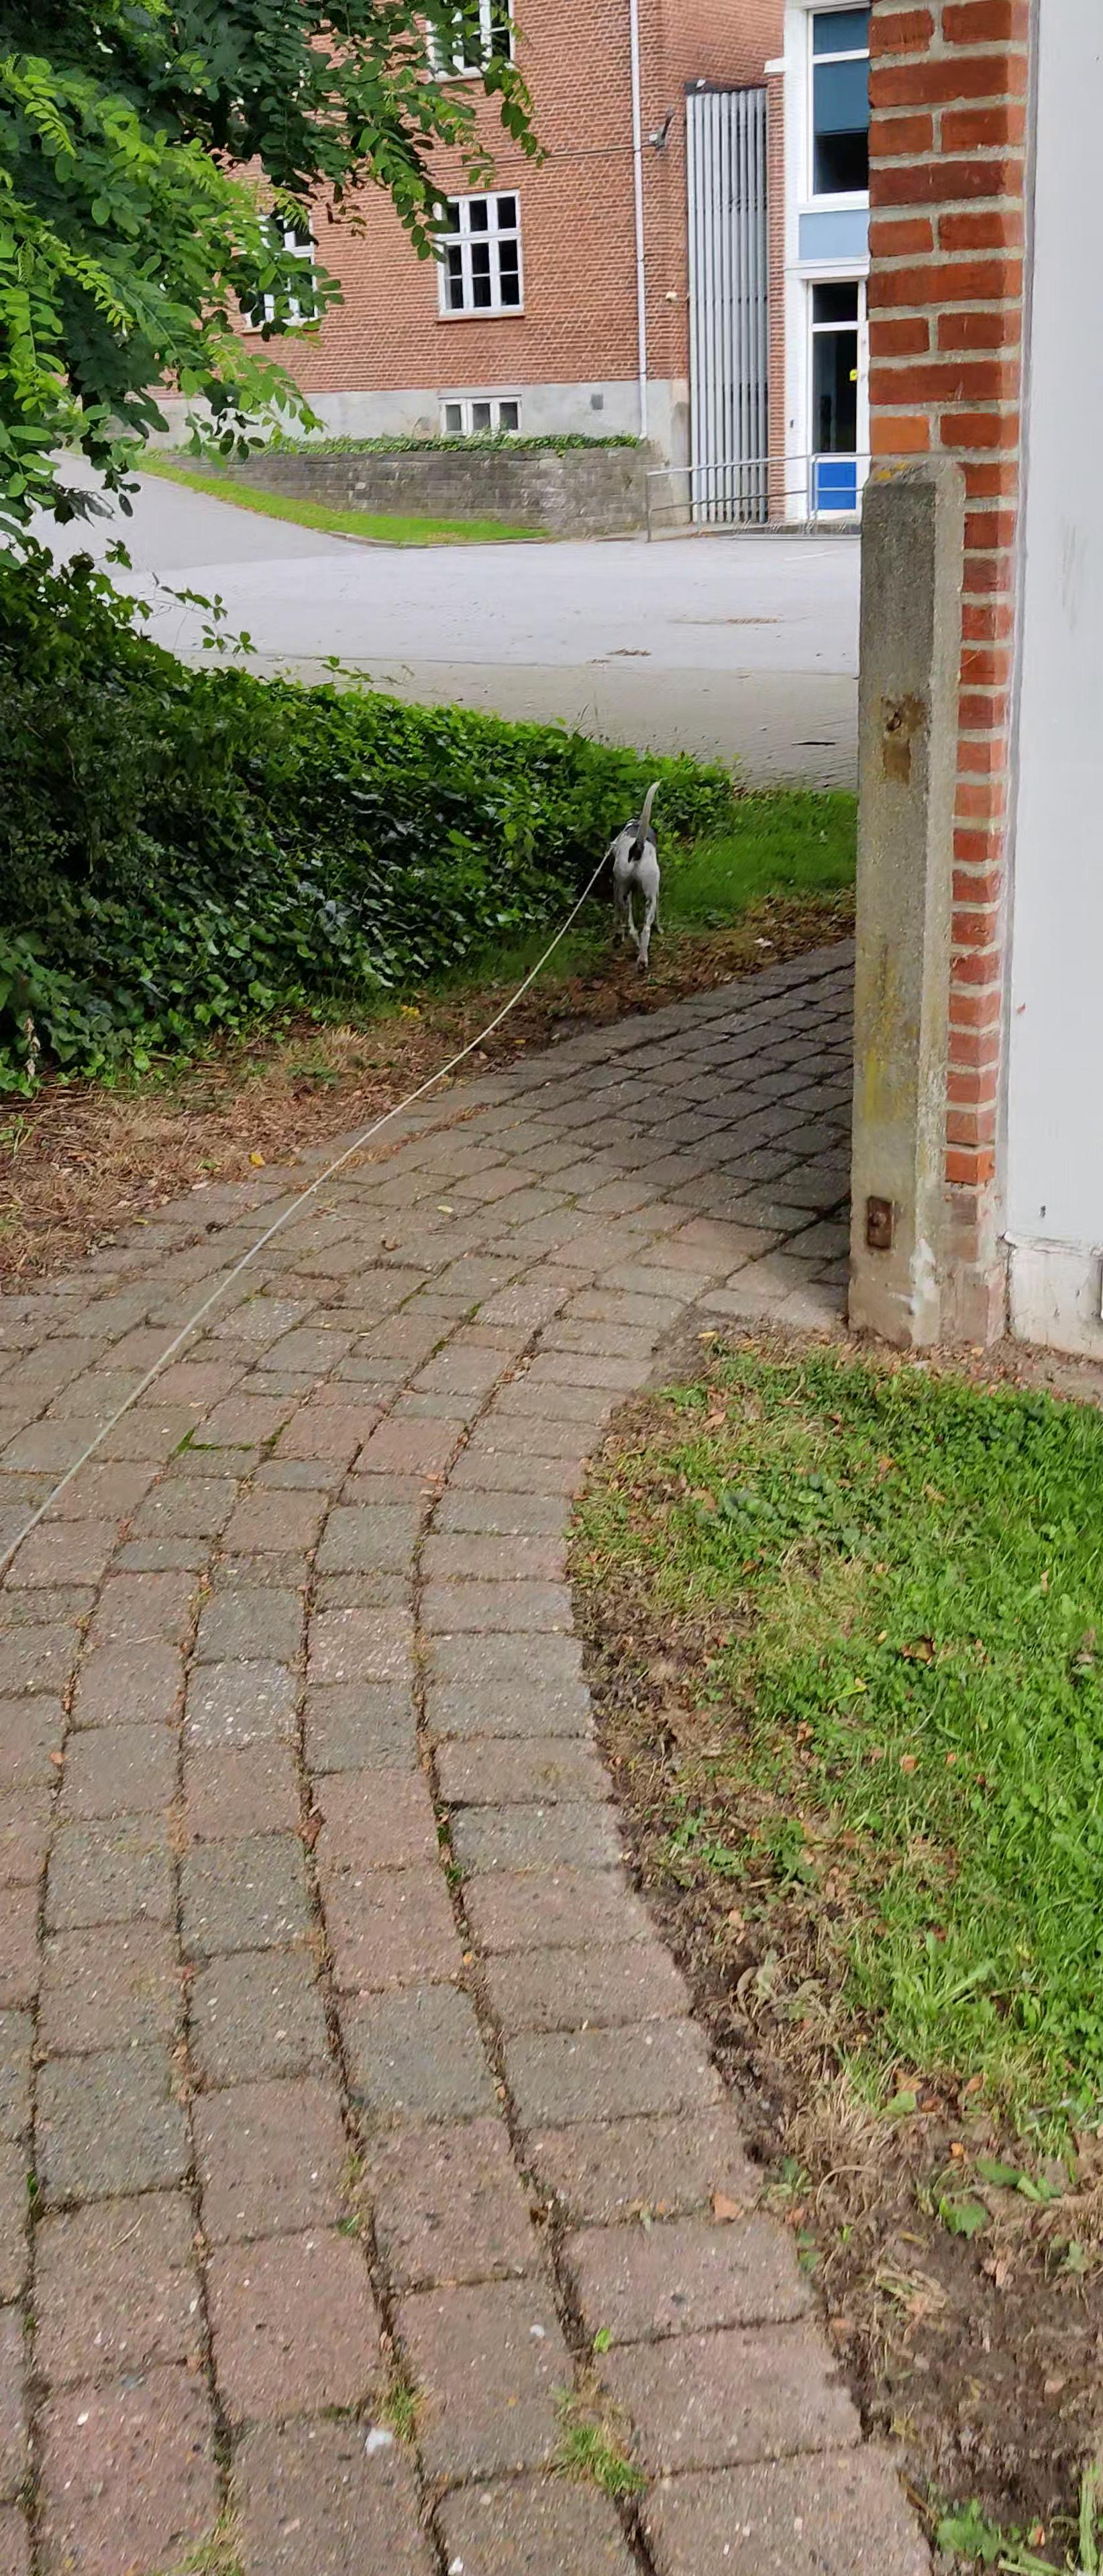Dog: (592, 769, 674, 981)
